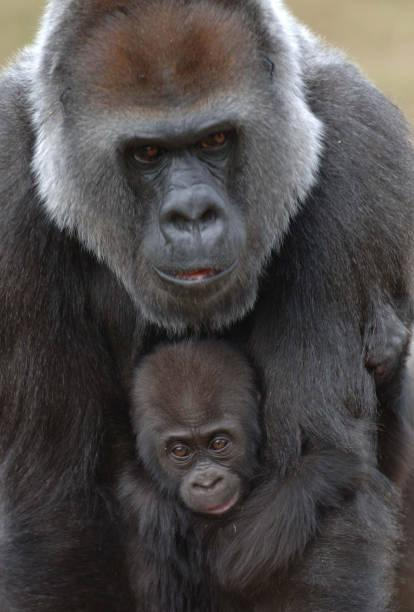gorille_Autres: (2, 0, 414, 603)
